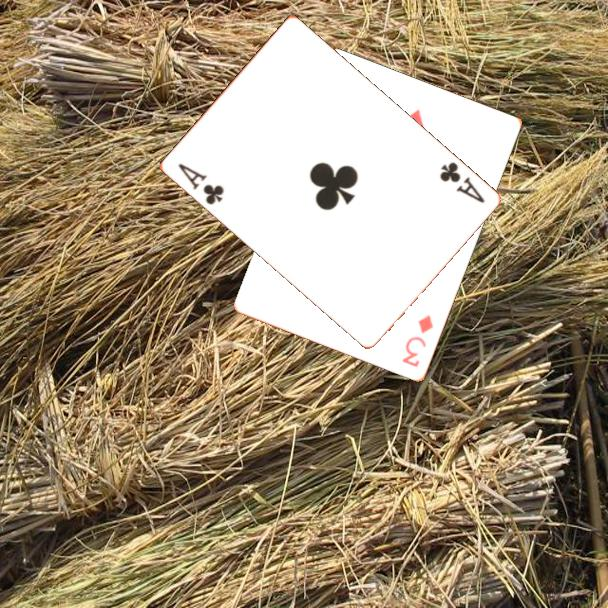c01: (174, 160, 226, 208), (435, 158, 487, 206)
d03: (399, 311, 437, 370)
